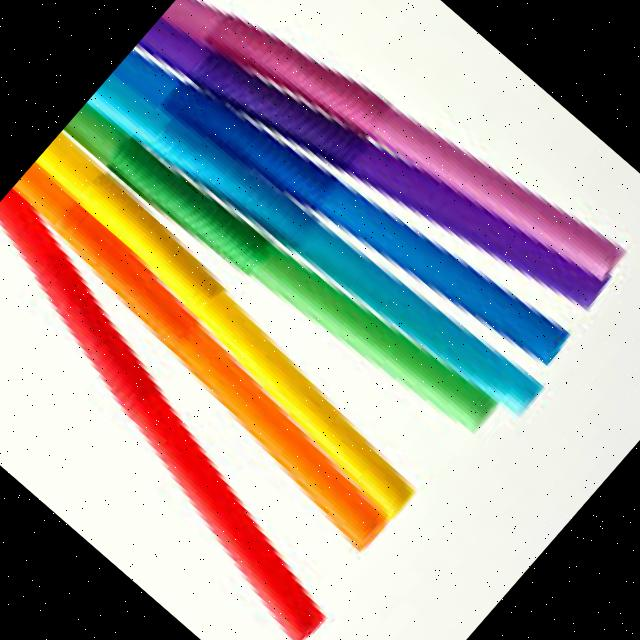plastic: (0, 217, 399, 640)
